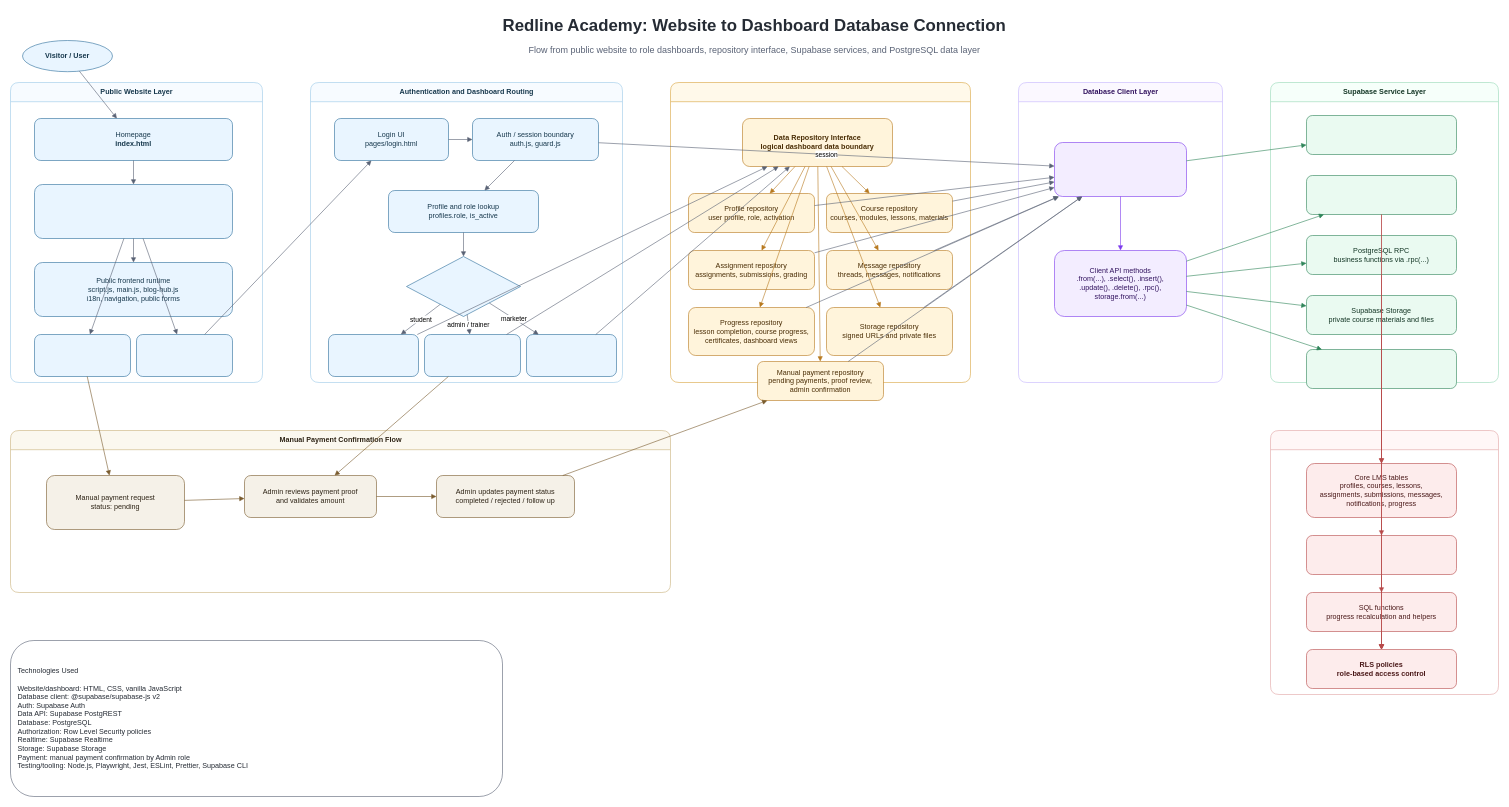
Some shapes in this 1509 by 807 pixel diagram are drawn without their labels. Here are the shapes that lost their labels. From the top down, the box of each, then its label:
(1306, 115, 1456, 154): Supabase Auth sessions and user identity
(1054, 142, 1186, 196): @supabase/supabase-js v2 js/supabase-client.js
(34, 184, 232, 238): Public content pages about, programs, blog, contact, articles, legal
(1306, 175, 1456, 214): PostgREST Data API table and view access
(670, 82, 970, 382): Data Repository Interface Layer
(406, 256, 520, 316): Dashboard role route
(34, 334, 130, 376): Enrollment / manual payment flows programs.html whatsapp-enquiry.html
(136, 334, 232, 376): LMS / portal entry point pages/login.html
(328, 334, 418, 376): Student Dashboard dashboard-student.html dashboard-student.js
(424, 334, 520, 376): Admin / Trainer Dashboard dashboard-admin.html dashboard-admin.js
(526, 334, 616, 376): Marketer Dashboard dashboard-marketer.html dashboard-marketer.js
(1306, 349, 1456, 388): Supabase Realtime notifications and dashboard refresh
(1306, 535, 1456, 574): Read models / views dashboard and progress views
(1270, 430, 1498, 694): PostgreSQL Database Layer
